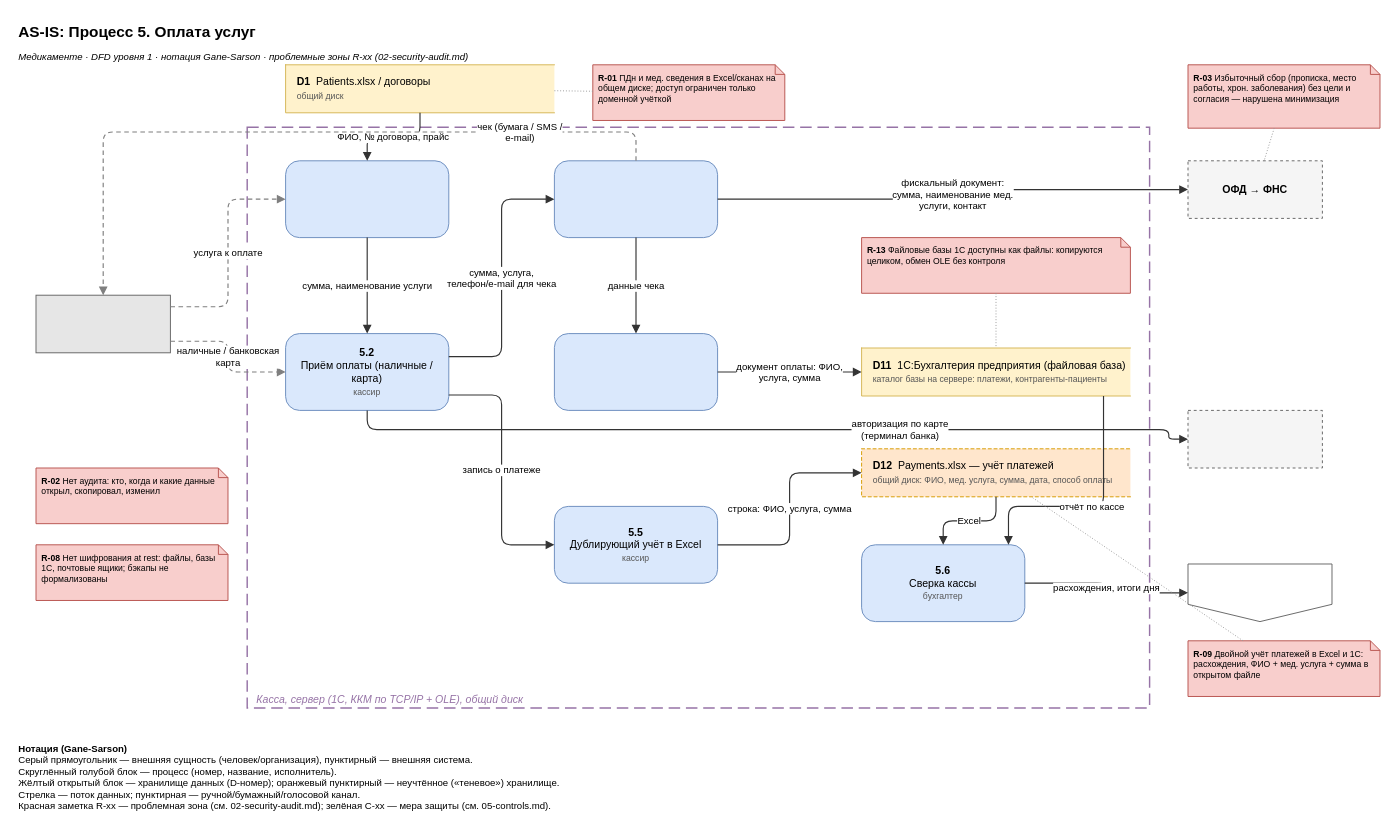
Some shapes in this 1397 by 839 pixel diagram are drawn without their labels. The shapes that lost their labels are listed below. From the top down, each one's centre as x and y in pixels, then its label:
point (367, 199): 5.1 Расчёт стоимости по договору и прайсу кассир
point (635, 199): 5.3 Фискализация чека ККМ (автоматически)
point (102, 323): Пациент
point (635, 371): 5.4 Передача в 1С: TCP/IP + OLE компонента 1С (автоматически)
point (1254, 438): Банк-эквайер POS-терминал
point (1259, 592): → Процесс 6: бухгалтерия
